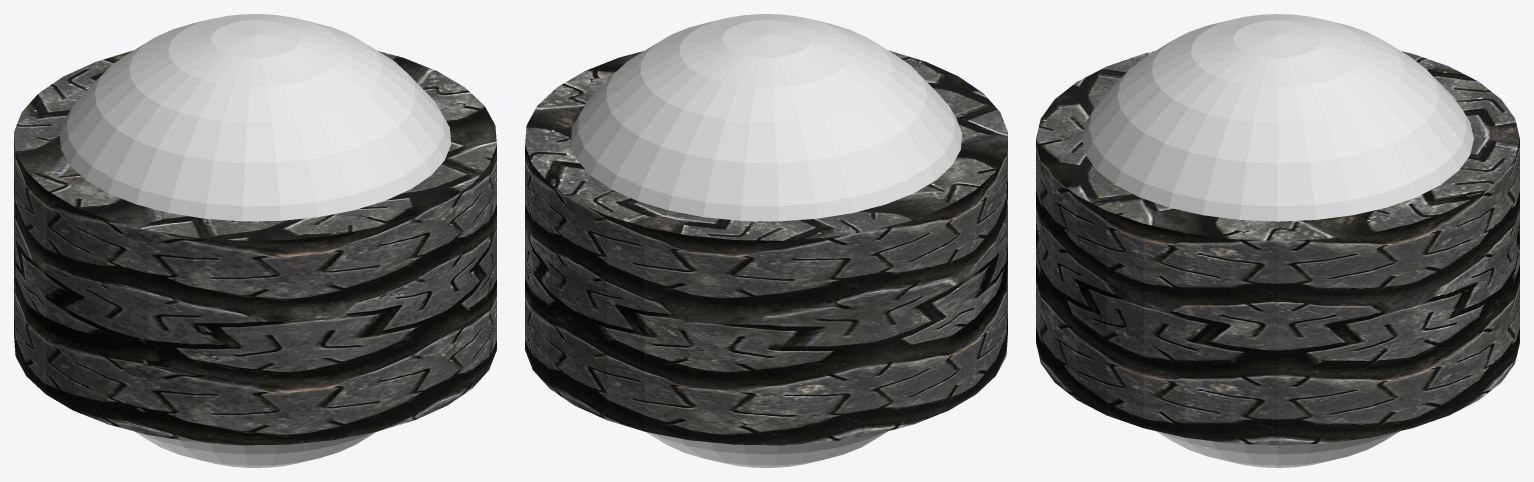
Rendered from well.glb.
The picture shows the model from 3 angles, left to right: view 1: azimuth 30°, elevation 25°; view 2: azimuth 150°, elevation 25°; view 3: azimuth 270°, elevation 25°; orthographic projection.
Parts seen in each view (by area): view 1: well, ball; view 2: well, ball; view 3: well, ball.
Boxes of the visible parts, x1,y1,x2,y2 form: well: (14,50,496,445); ball: (59,14,451,467); well: (525,50,1007,445); ball: (570,14,962,467); well: (1036,51,1519,445); ball: (1082,14,1473,467).
Bounding box in the file's own units: 8.36 × 7.85 × 8.36.
1 material, 1 textured.
